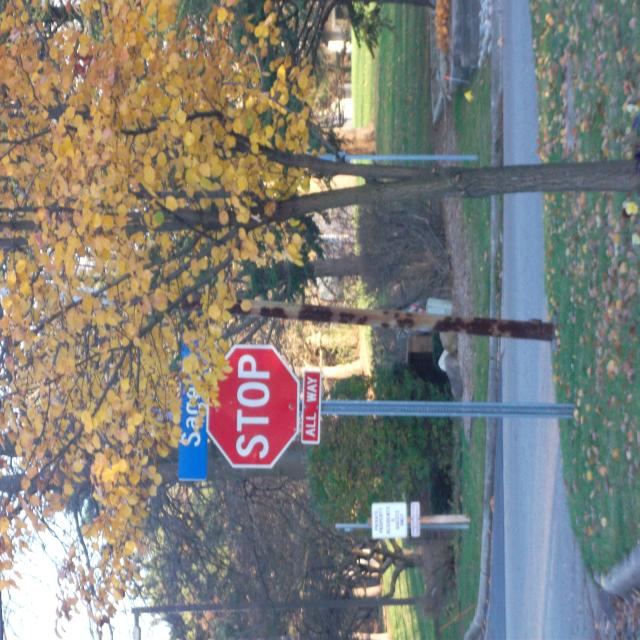regulatory: (372, 498, 409, 540)
stop: (204, 340, 304, 474)
